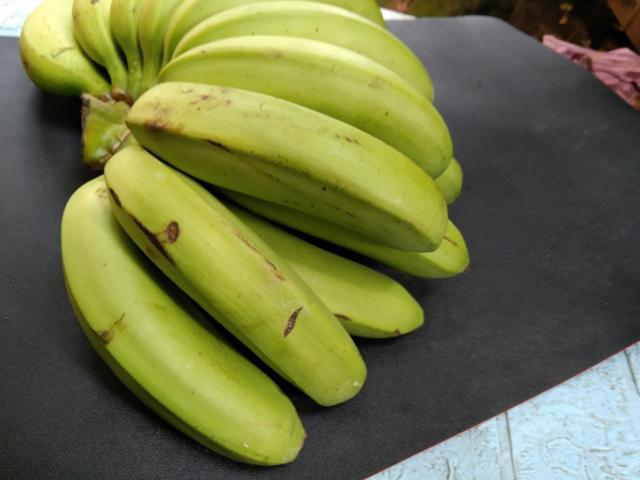freshunripe: (55, 177, 313, 477), (168, 34, 457, 161), (164, 0, 428, 100)
unripe: (95, 145, 376, 409), (122, 74, 454, 268)
